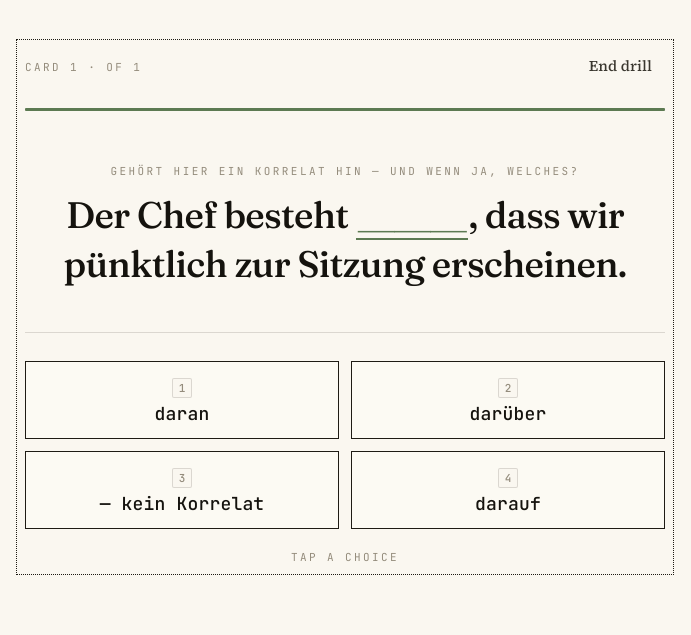
Test case: KorrelatRunner — smoke tests › shows the explanation even on a CORRECT pick — the reveal is never conditional on wrongness
Click the button with class "choice" showing "4 darauf" at (508, 490), box top-left (351, 451), bottom-right (665, 529)
(page scrolled)
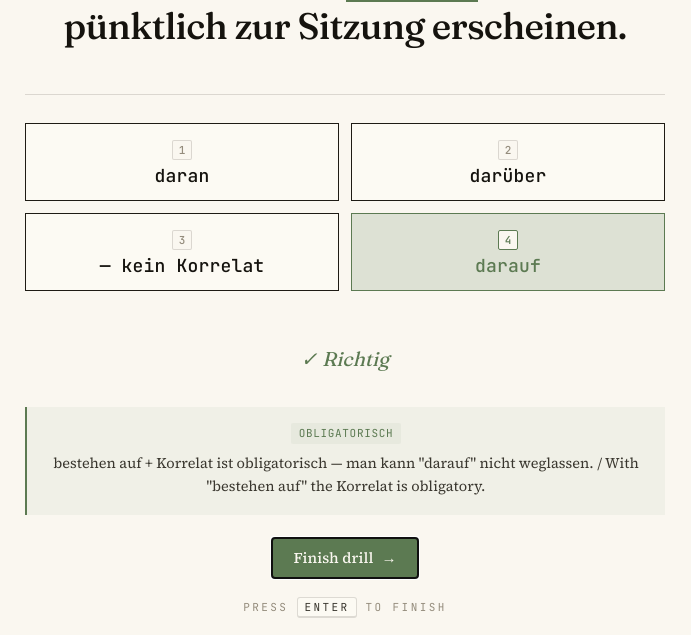
expect the text "✓ Richtig" is shown: met, box top-left (301, 343), bottom-right (389, 375)
expect the element with class "reveal" is shown: met, box top-left (25, 407), bottom-right (665, 515)
expect the element with class "reveal" shows "bestehen auf + Korrelat ist obligatorisch — man kann \"darauf\" nicht weglassen. / With \"bestehen auf\" the Korrelat is obligatory.": met, box top-left (53, 453), bottom-right (639, 496)
